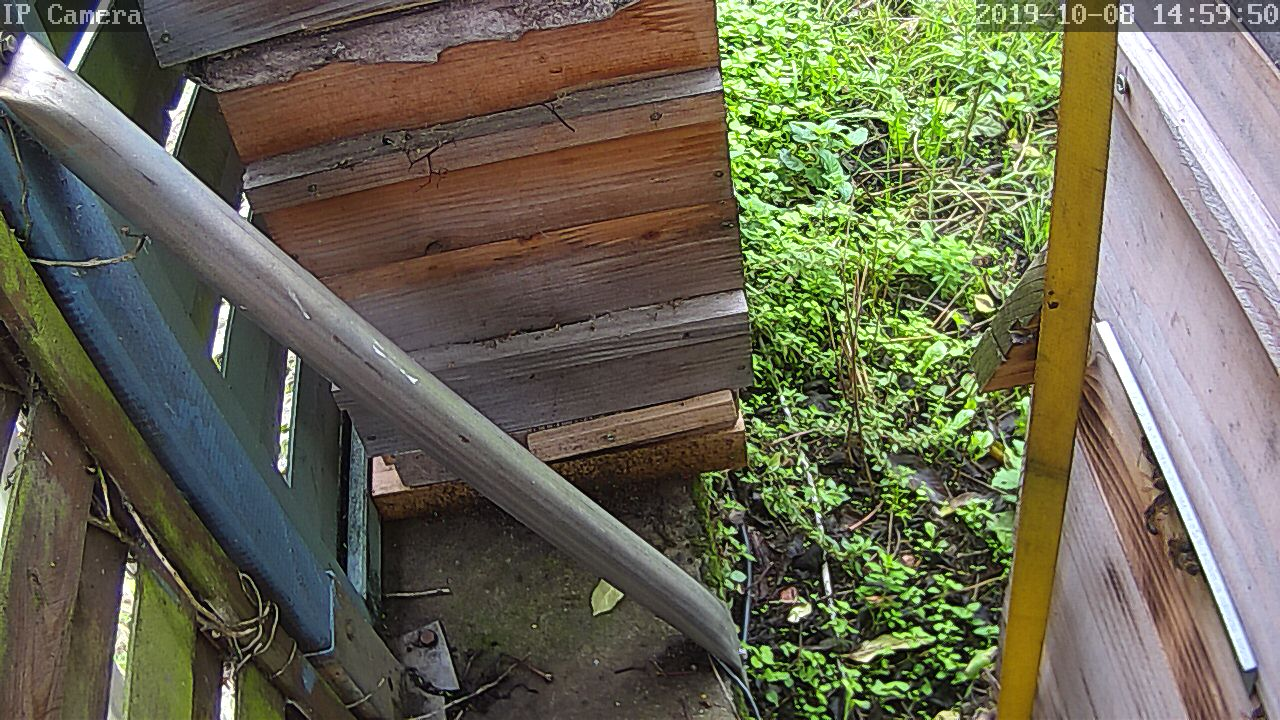bee: (1126, 437, 1178, 495), (1151, 531, 1200, 572), (1141, 488, 1180, 526)
